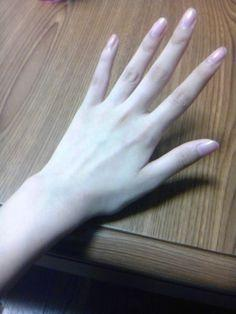hand: (51, 7, 229, 213)
